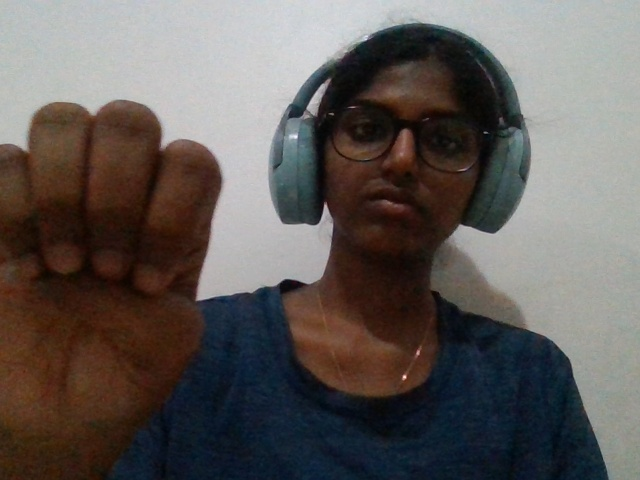E: (1, 65, 238, 480)
